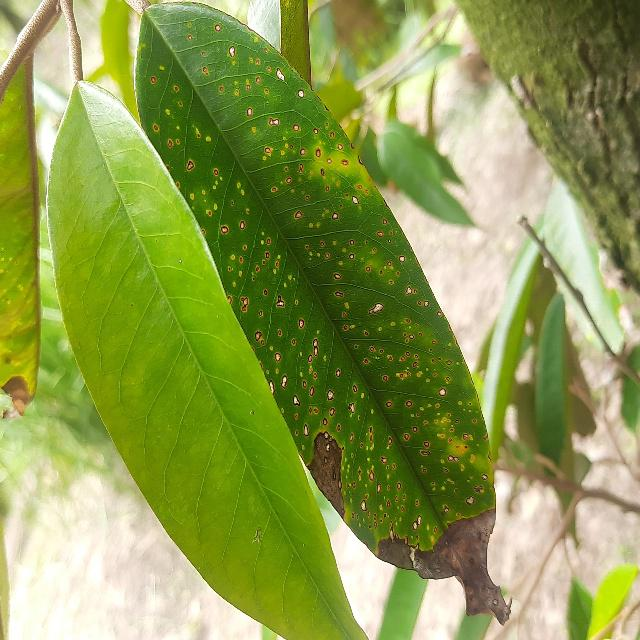Leaf Spot: (129, 0, 523, 631)
No Disease: (47, 81, 379, 639)
